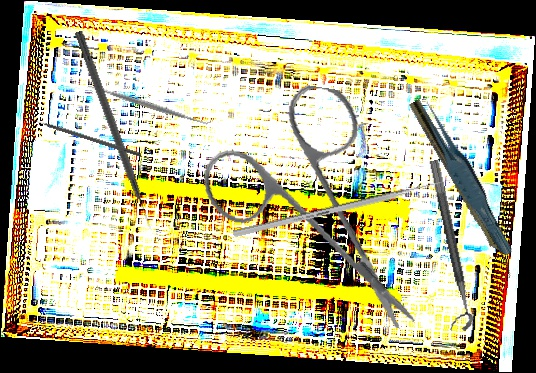Fixation Ring: (415, 159, 476, 334)
Handpiece: (406, 98, 520, 280)
Hook Surgical: (72, 29, 156, 232), (29, 116, 142, 157)
Iris Scissors: (184, 71, 449, 331)
Pusher: (232, 175, 456, 239)
Spatula Surgical: (85, 78, 213, 132)
Tissue Forceps: (414, 89, 515, 263)
